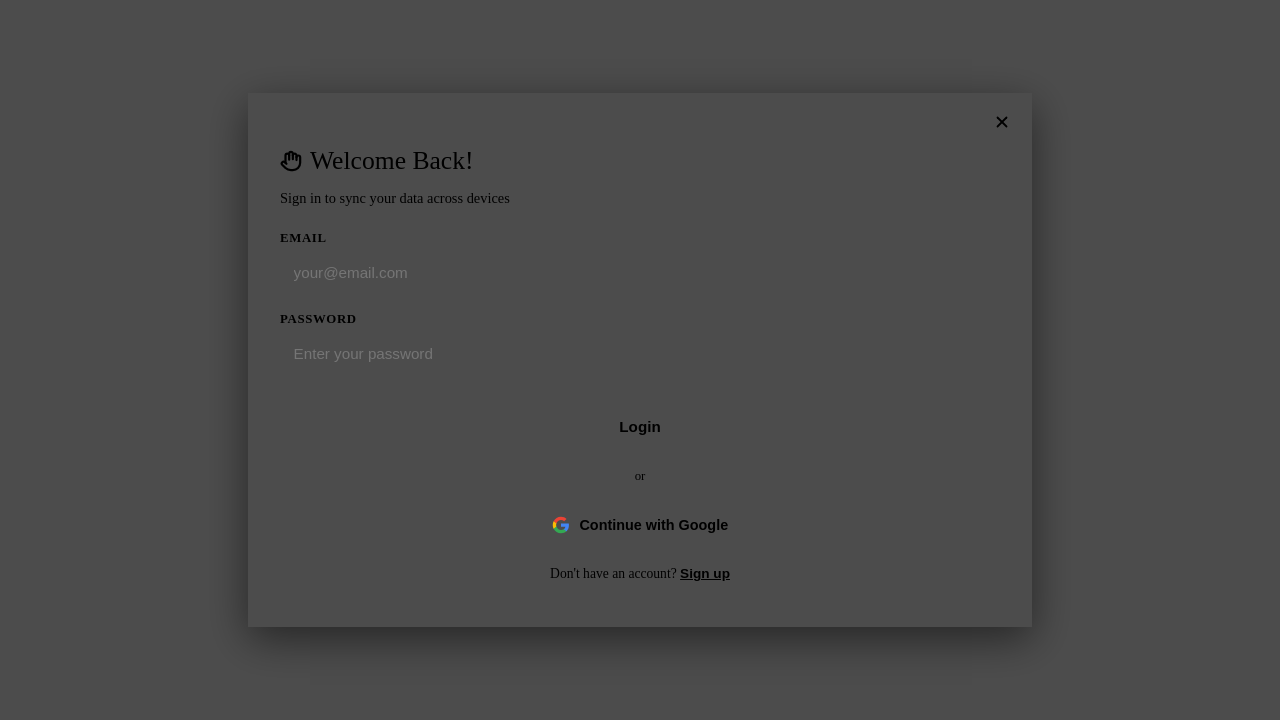
Scenario: AuthModal Component › Login Mode › should display error message on failed login
Type "test@example.com" into the field with placeholder "your@email.com". click: (654,272)
box: [280,252,1027,292]
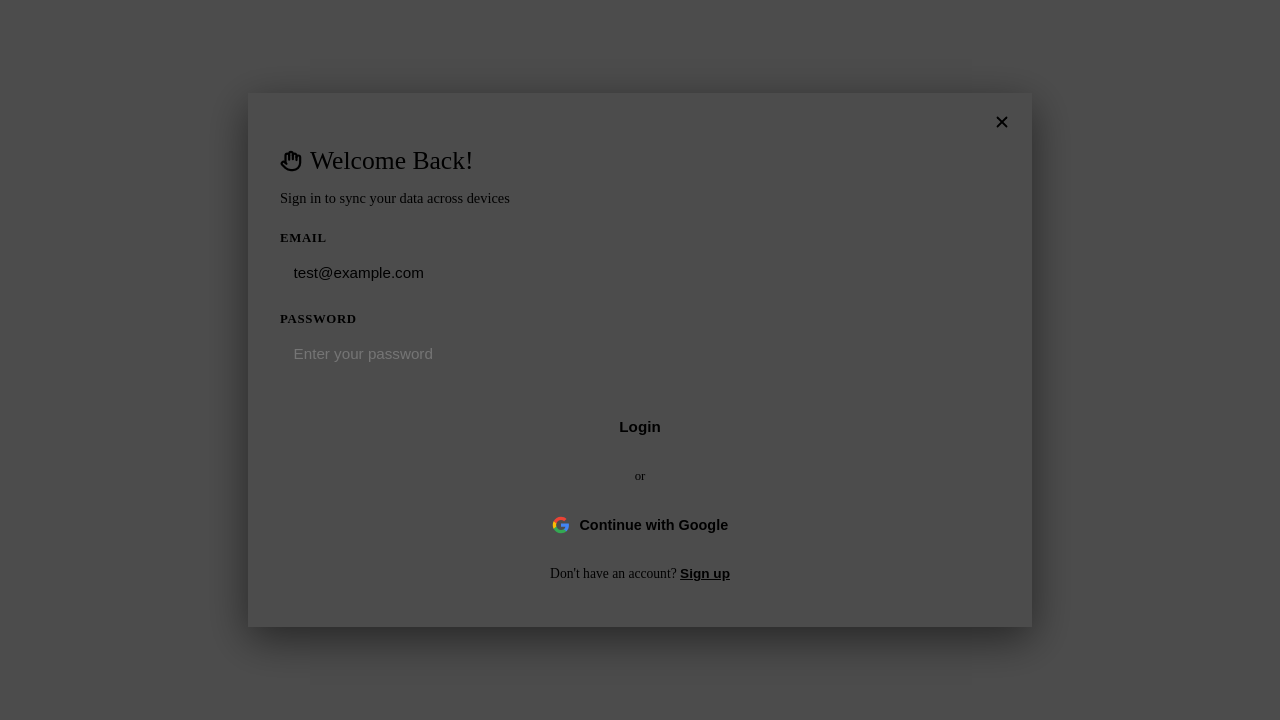
Type "wrongpassword" into the password field with placeholder "Enter your password". click: (654,353)
box: [280,333,1027,373]
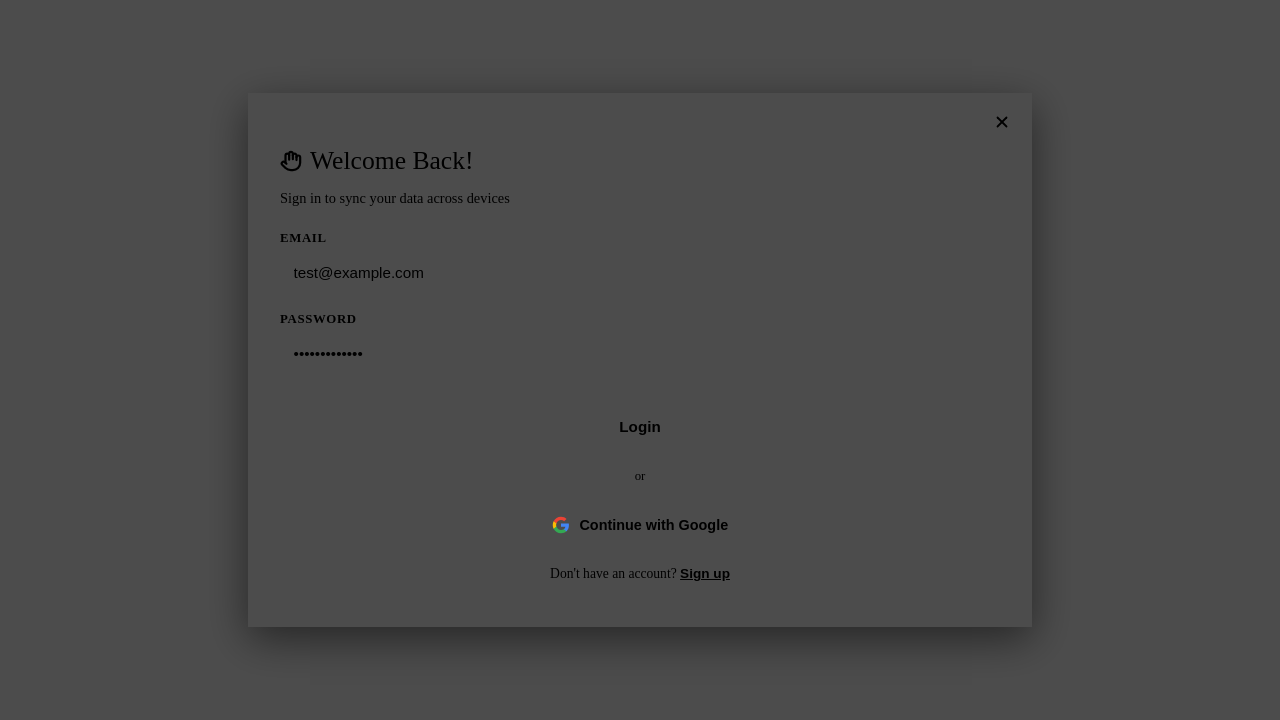
Click the button "Login". click: (640,427)
box: [280,405,1000,449]
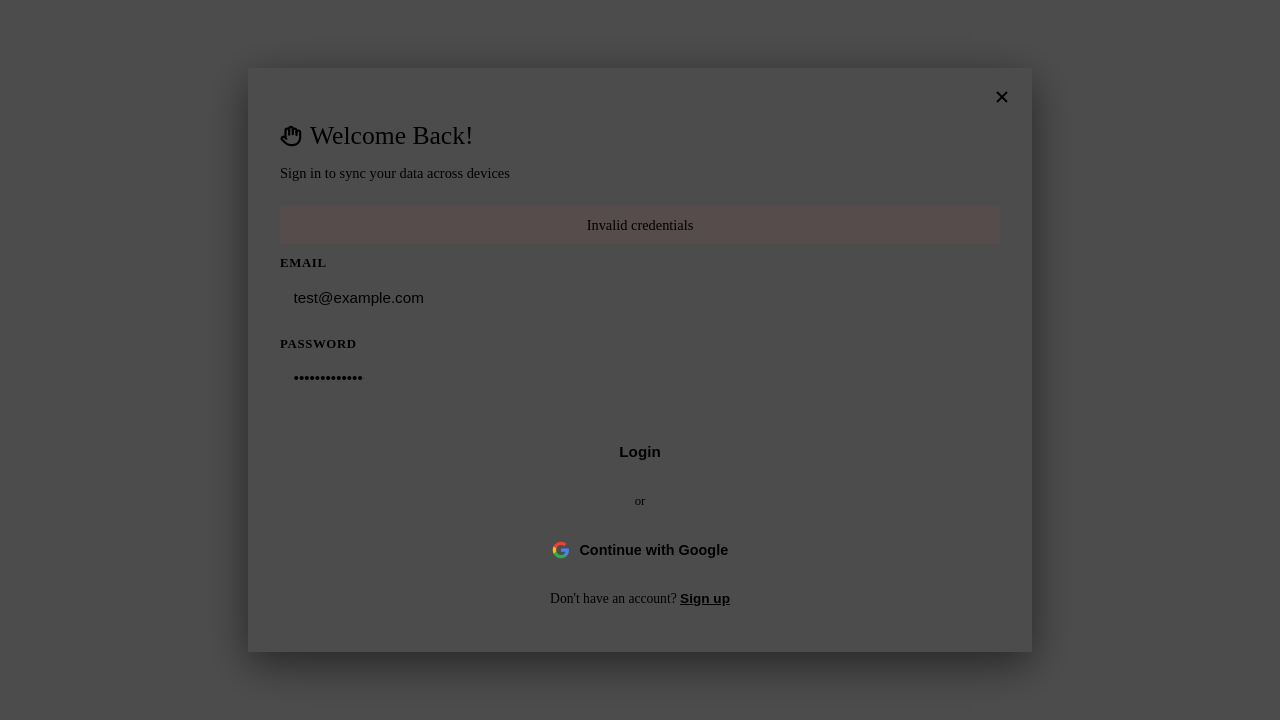
Expected: the text "Invalid credentials" is shown, [280,206,1000,244]
